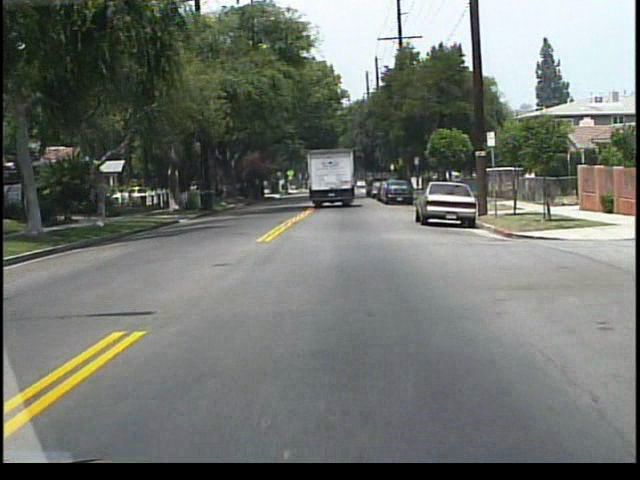person: (521, 164, 537, 201)
